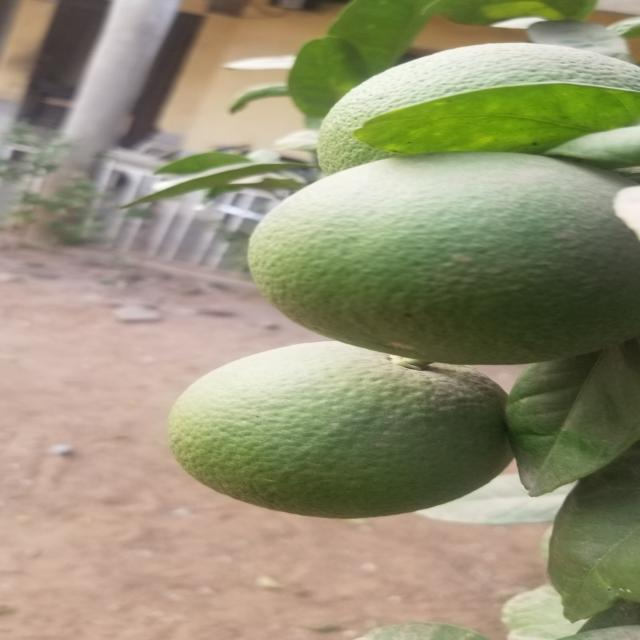Unripe: (245, 149, 640, 357), (176, 346, 513, 519), (323, 41, 627, 173)
